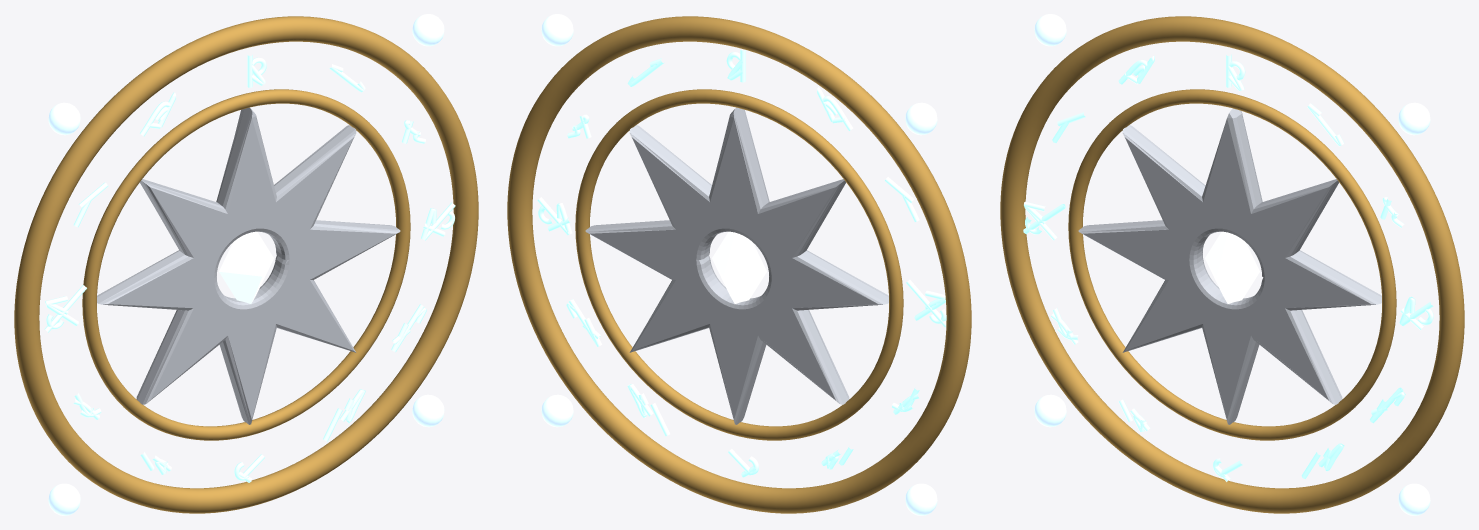
The model's file is sigil.glb.
The picture shows the model from 3 angles, left to right: view 1: azimuth 30°, elevation 25°; view 2: azimuth 150°, elevation 25°; view 3: azimuth 330°, elevation 25°; orthographic projection.
Parts seen in each view (by area): view 1: rings, star, runes, orbiters, core; view 2: rings, star, runes, orbiters, core; view 3: rings, star, runes, orbiters, core.
Part boxes in pixels (x1=…): rings: x1=14, y1=16, x2=478, y2=513; star: x1=97, y1=107, x2=400, y2=424; runes: x1=44, y1=54, x2=455, y2=482; orbiters: x1=48, y1=14, x2=444, y2=515; core: x1=219, y1=231, x2=273, y2=303; rings: x1=507, y1=16, x2=971, y2=513; star: x1=585, y1=107, x2=888, y2=424; runes: x1=537, y1=50, x2=946, y2=477; orbiters: x1=541, y1=14, x2=937, y2=515; core: x1=712, y1=231, x2=766, y2=303; rings: x1=1000, y1=16, x2=1464, y2=513; star: x1=1078, y1=108, x2=1381, y2=424; runes: x1=1023, y1=54, x2=1433, y2=481; orbiters: x1=1034, y1=14, x2=1430, y2=515; core: x1=1205, y1=231, x2=1259, y2=303.
Size of the model in its own units: 1.47 by 1.47 by 0.176.
